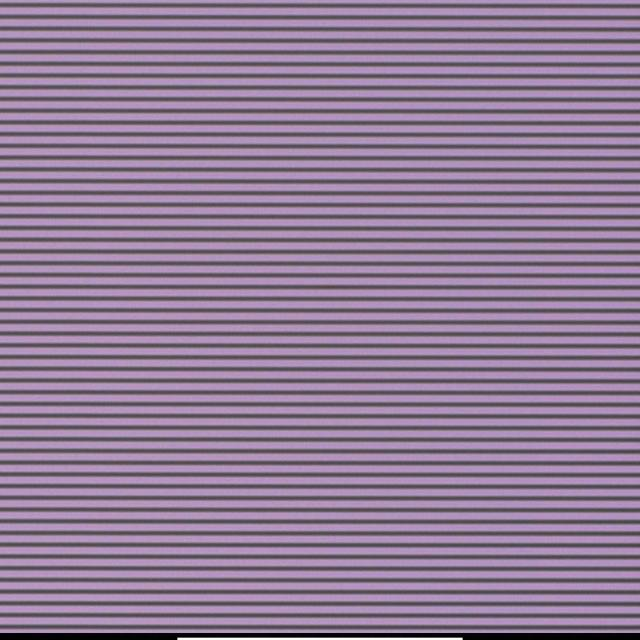nonvisual: (327, 283, 334, 292)
